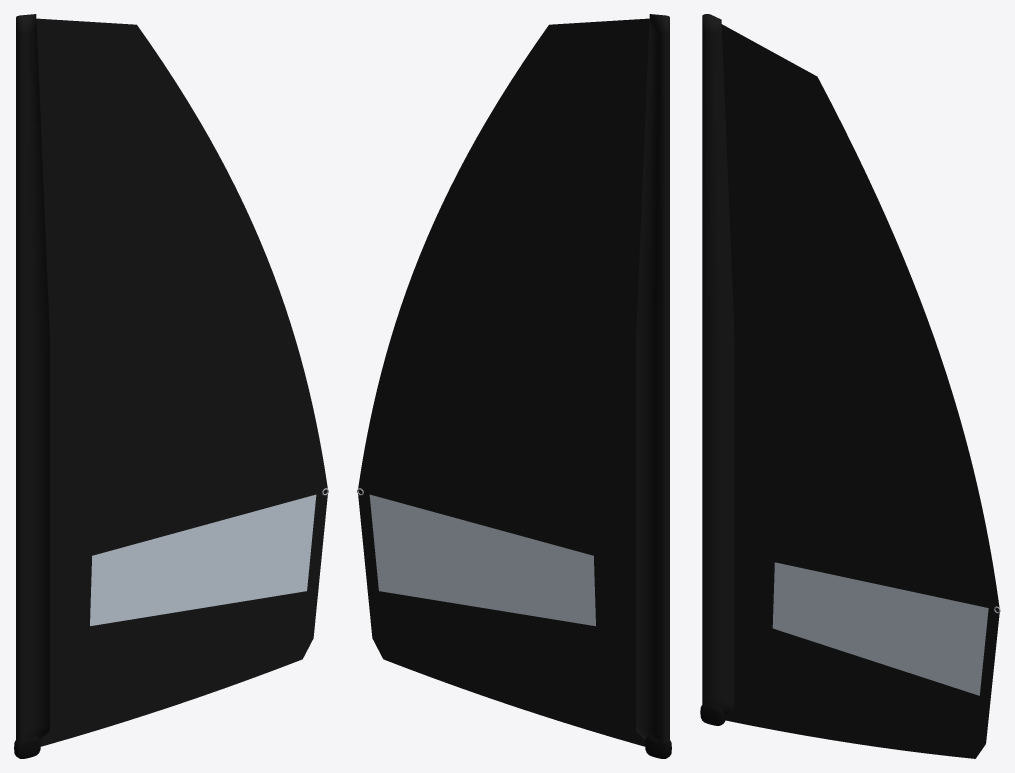
Rendered from nielstrots_slalom_9_0.glb.
The picture shows the model from 3 angles, left to right: view 1: azimuth 30°, elevation 25°; view 2: azimuth 150°, elevation 25°; view 3: azimuth 330°, elevation 25°; orthographic projection. The views are drawn at different scales.
Parts seen in each view (by area): view 1: SailCloth; view 2: SailCloth; view 3: SailCloth.
Boxes of the visible parts, x1,y1,x2,y2 form: SailCloth: (16,14,327,746); SailCloth: (358,14,669,746); SailCloth: (702,14,999,758).
Size of the model in its own units: 2.31 by 5.23 by 0.08.
